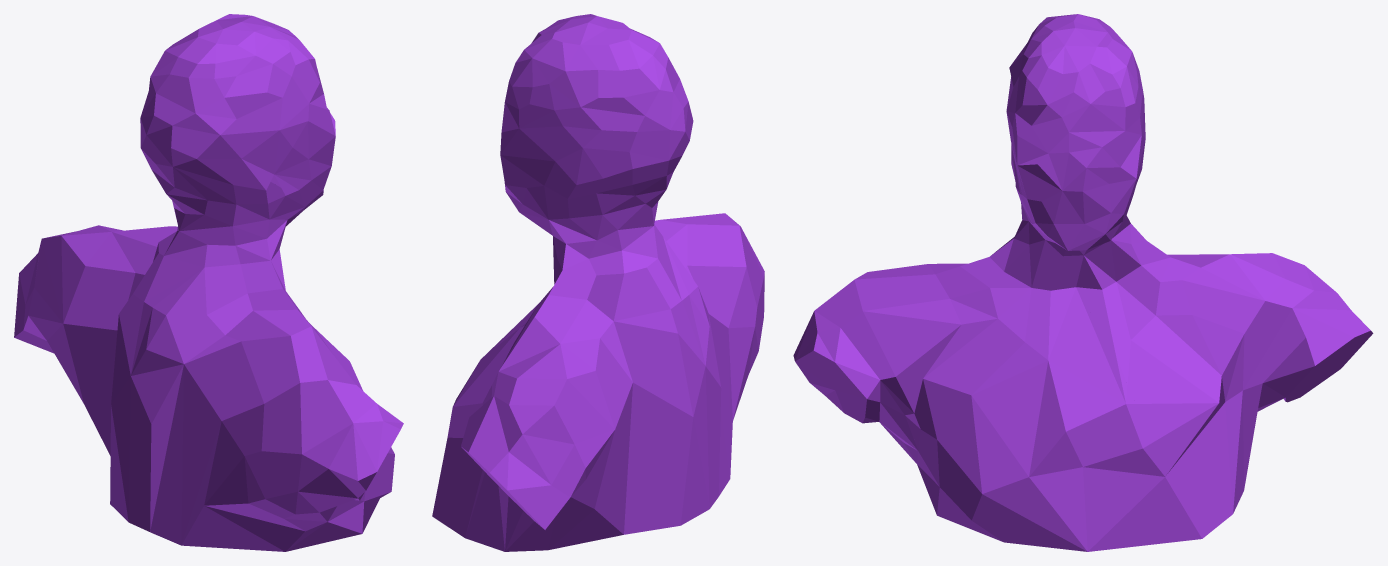
File: Statue.011_chunks.fbx
The picture shows the model from 3 angles, left to right: view 1: azimuth 30°, elevation 25°; view 2: azimuth 150°, elevation 25°; view 3: azimuth 270°, elevation 25°; orthographic projection. The views are drawn at different scales.
Parts seen in each view (by area): view 1: Statue.011_3, Statue.011_2, Statue.011_0, Statue.011_1; view 2: Statue.011_2, Statue.011_0, Statue.011_3; view 3: Statue.011_1, Statue.011_2, Statue.011_0, Statue.011_3.
Part boxes in pixels (x1,y1,x2,y2): Statue.011_3: [148, 174, 403, 549]; Statue.011_2: [14, 225, 335, 551]; Statue.011_0: [140, 14, 335, 237]; Statue.011_1: [276, 128, 394, 539]; Statue.011_2: [432, 245, 732, 551]; Statue.011_0: [500, 14, 693, 256]; Statue.011_3: [645, 201, 764, 420]; Statue.011_1: [895, 161, 1140, 551]; Statue.011_2: [1076, 232, 1373, 550]; Statue.011_0: [1006, 14, 1145, 247]; Statue.011_3: [793, 144, 1025, 477].
Bounding box in the file's own units: 181 × 345 × 389.
